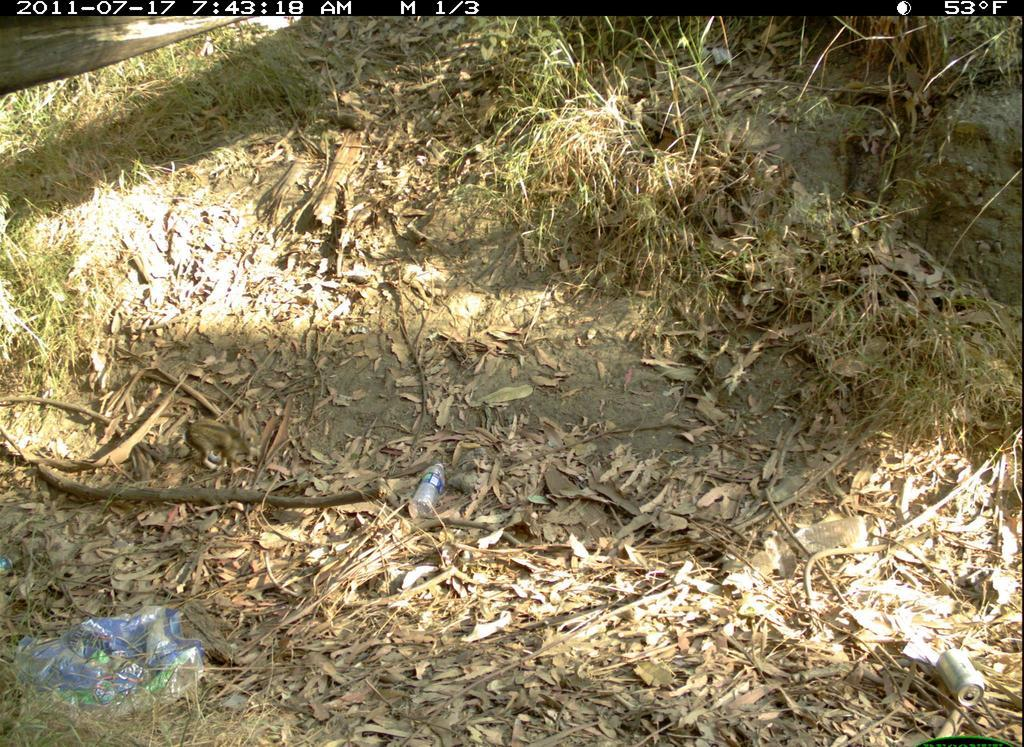rabbit: (175, 396, 273, 497)
